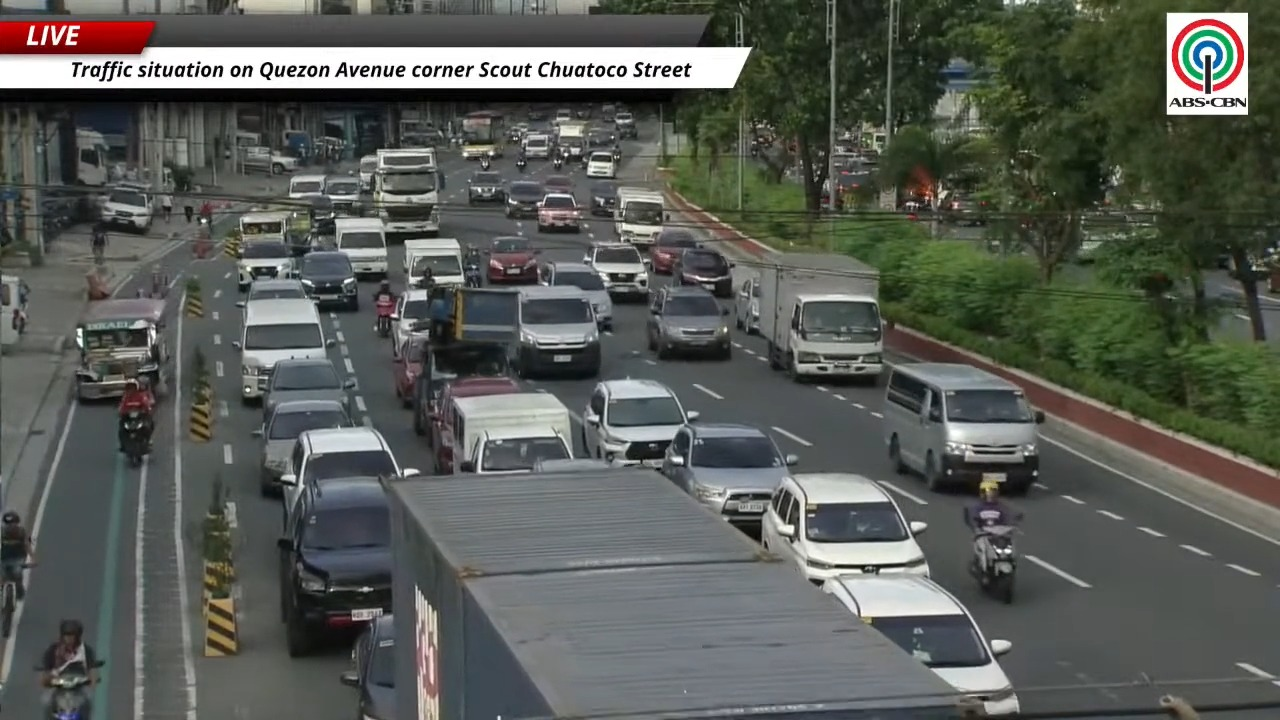bus: (462, 111, 506, 159)
car: (823, 575, 1019, 716), (278, 475, 390, 656), (761, 473, 928, 584), (661, 423, 798, 526), (279, 426, 418, 521), (582, 378, 698, 468), (254, 400, 354, 496), (513, 285, 600, 377), (427, 377, 520, 448), (646, 285, 731, 359), (340, 614, 397, 719), (262, 358, 354, 417), (539, 262, 612, 329), (582, 243, 649, 298), (298, 251, 358, 311), (672, 248, 733, 297), (237, 241, 292, 291), (391, 288, 429, 356), (486, 236, 539, 284), (100, 187, 153, 233), (393, 335, 427, 406), (649, 228, 700, 274), (236, 280, 308, 307), (537, 192, 580, 232), (240, 146, 298, 174), (939, 193, 988, 225), (325, 175, 362, 216), (505, 181, 546, 218), (734, 277, 760, 333), (468, 171, 505, 204), (531, 459, 616, 473), (590, 182, 617, 217), (586, 151, 616, 178), (615, 111, 637, 138), (543, 175, 573, 193), (588, 129, 615, 147)
motorcycle: (970, 525, 1017, 603), (47, 670, 90, 719), (121, 410, 150, 466), (375, 295, 395, 337), (464, 261, 482, 287), (515, 157, 526, 172), (480, 156, 490, 170), (612, 149, 621, 163), (553, 157, 562, 170)
truck: (382, 468, 958, 719), (758, 252, 884, 382), (411, 286, 518, 434), (371, 148, 445, 235), (50, 121, 109, 187), (613, 188, 666, 249), (402, 238, 463, 286), (75, 128, 109, 186), (397, 110, 441, 147), (557, 122, 587, 160)
